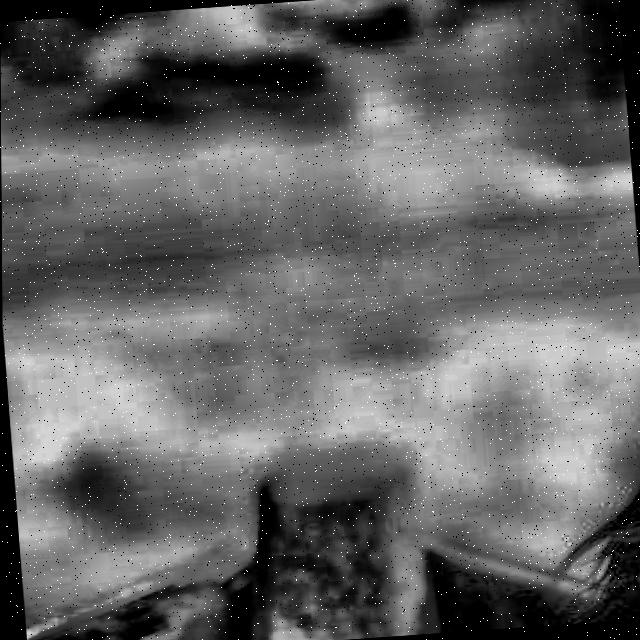dog: (2, 204, 640, 640)
